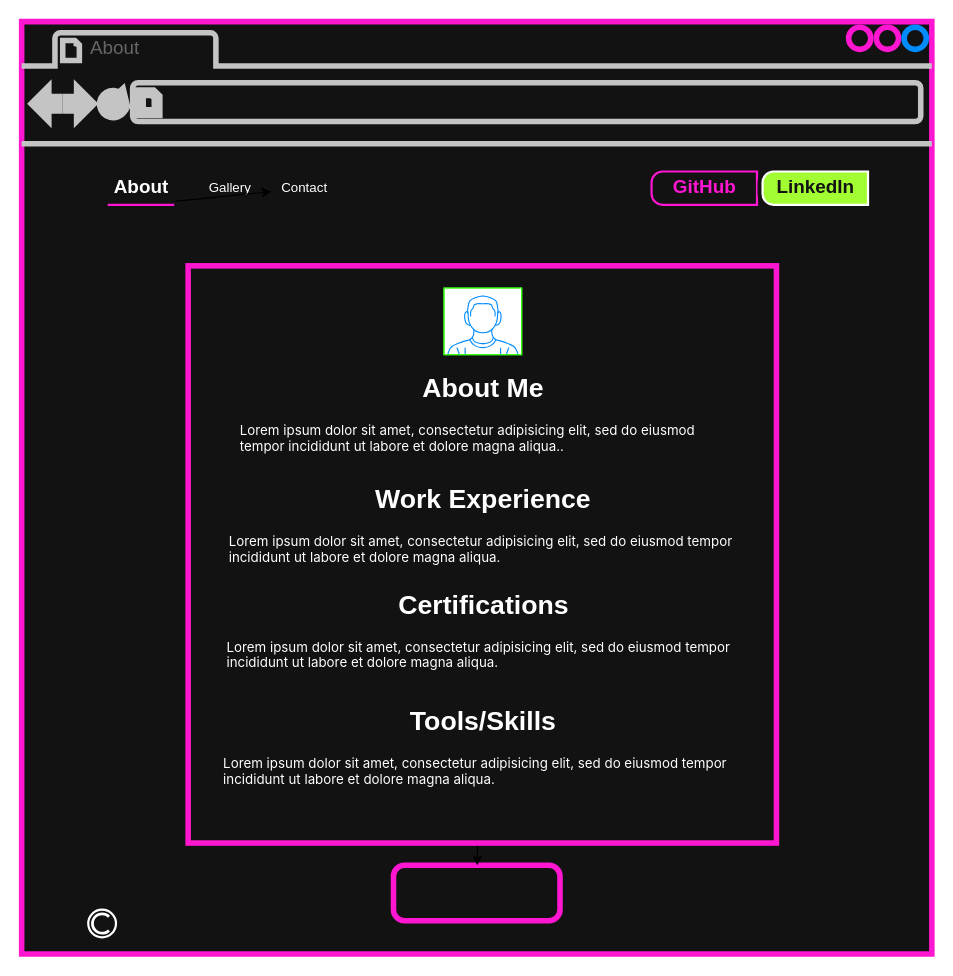
This 953x976 diagram has some shape labels left out. Each missing label, with the box of its shape:
https://www.draw.io: (165, 87, 443, 117)
Resume: (390, 862, 562, 923)
